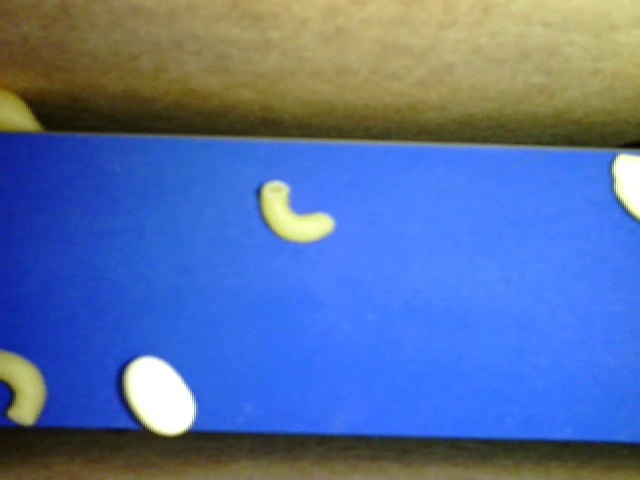elbow: (258, 178, 336, 245), (1, 349, 49, 426)
